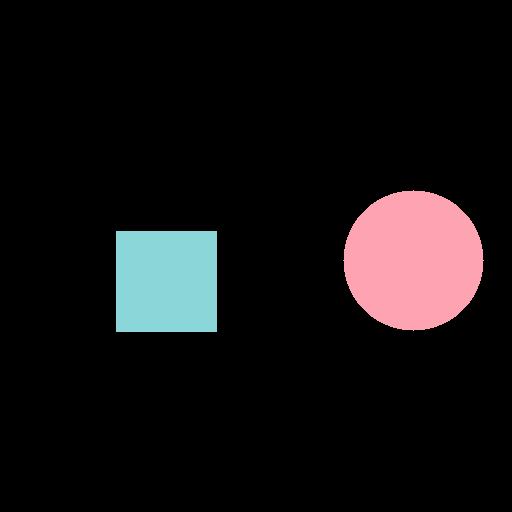circle: (343, 190, 483, 330)
square: (116, 231, 216, 331)
